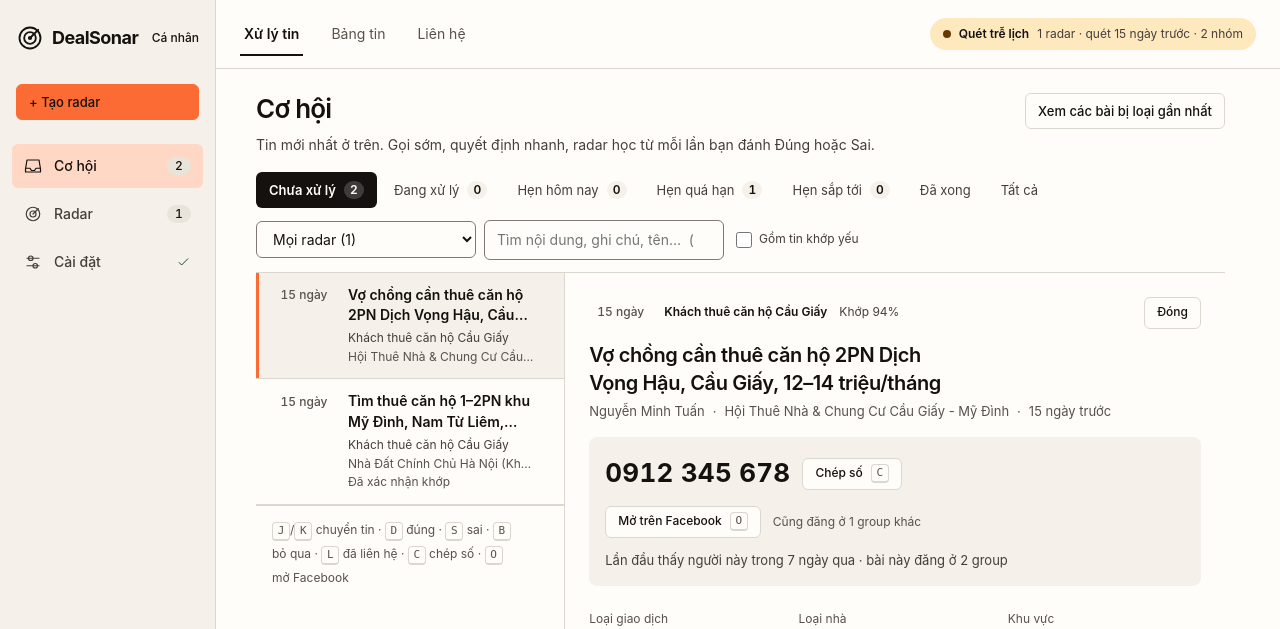
Test: Radar variants › applies the plan's field limit to the copy, as for a new radar
This screenshot has width=1280, height=629.
Expected: the heading "Cơ hội" is shown, [256, 93, 331, 124]
Click the button "Radar 1": (108, 214) [12, 192, 203, 236]
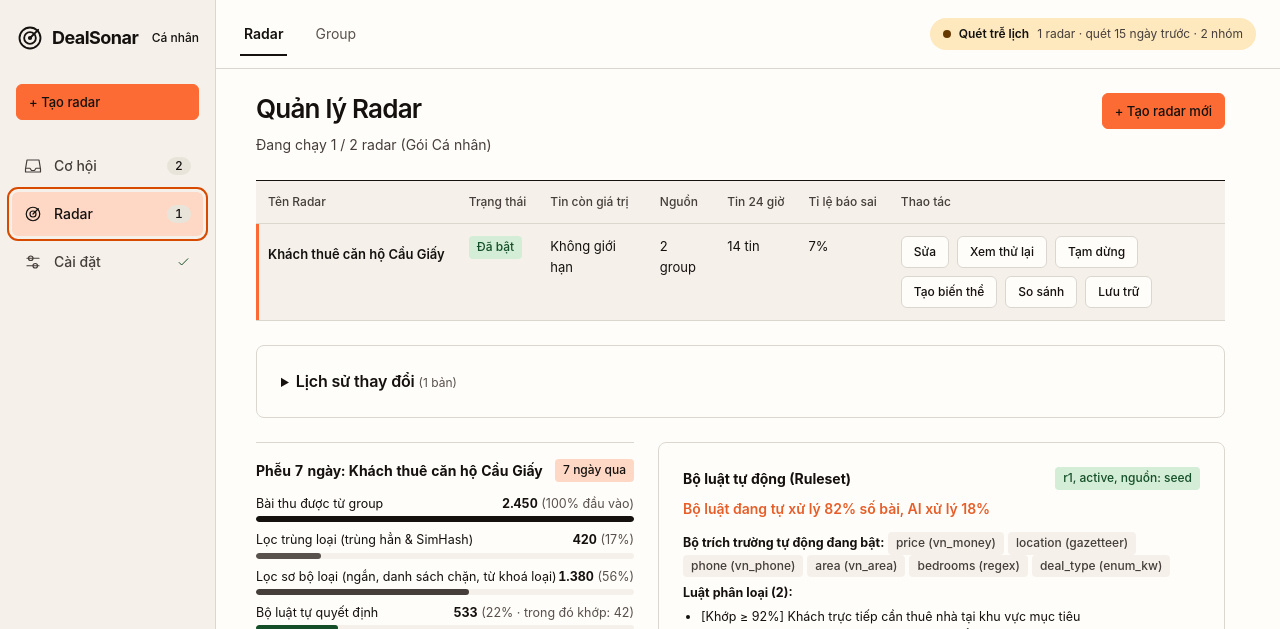
Now the heading "Quản lý Radar" is shown, box [256, 93, 421, 124]
